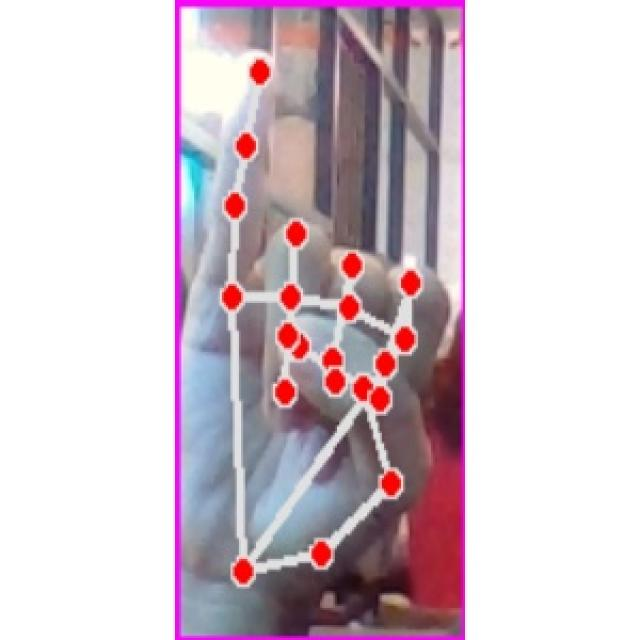I: (188, 43, 454, 615)
